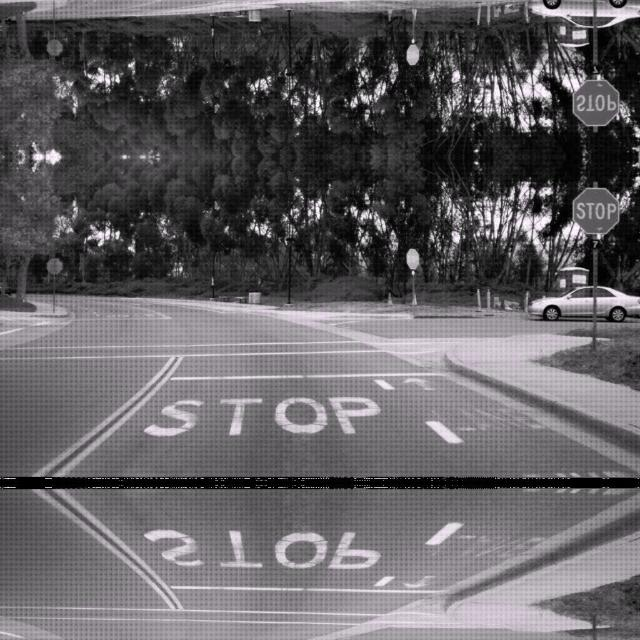stop: (571, 186, 619, 232), (571, 80, 619, 126), (405, 247, 419, 267), (405, 45, 419, 65)
